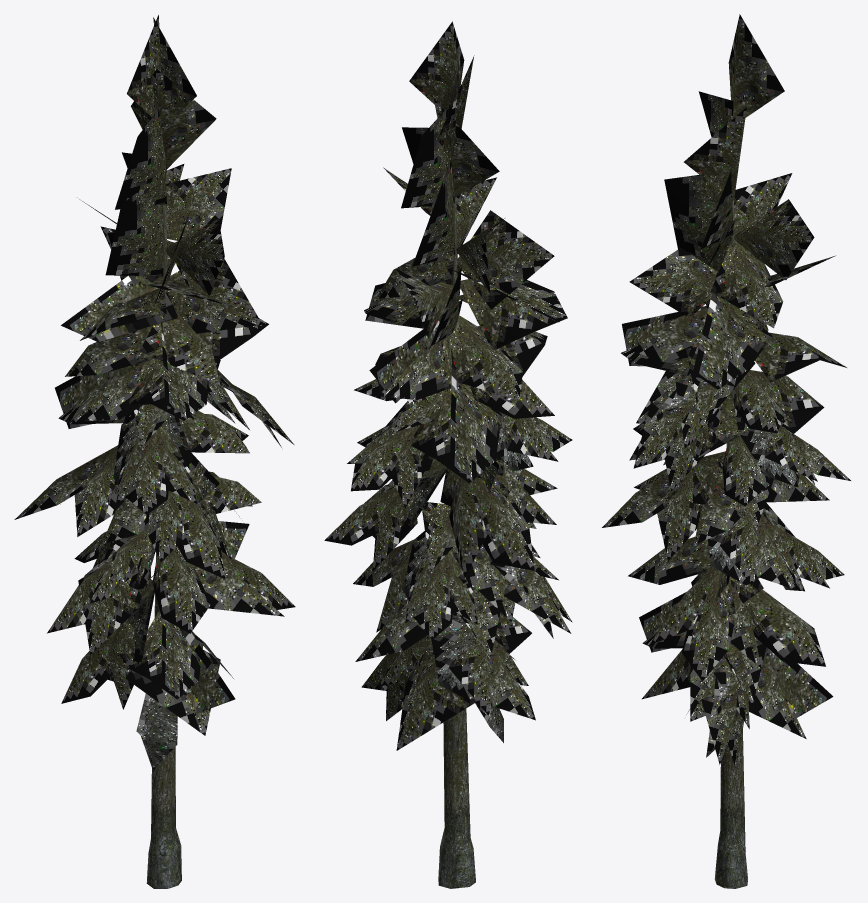
The model's file is treepineforestdeadsnowl02-transformed.glb.
The picture shows the model from 3 angles, left to right: view 1: azimuth 30°, elevation 25°; view 2: azimuth 150°, elevation 25°; view 3: azimuth 270°, elevation 25°; orthographic projection.
Parts seen in each view (by area): view 1: default; view 2: default; view 3: default.
Part boxes in pixels (x1,y1,x2,y2): default: (14,15,295,888); default: (324,21,572,888); default: (602,14,850,888).
Size of the model in its own units: 7.26 by 25.71 by 6.78.
2 materials, 2 textured.
